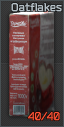Pack of oat flakes: (0, 0, 64, 127)
